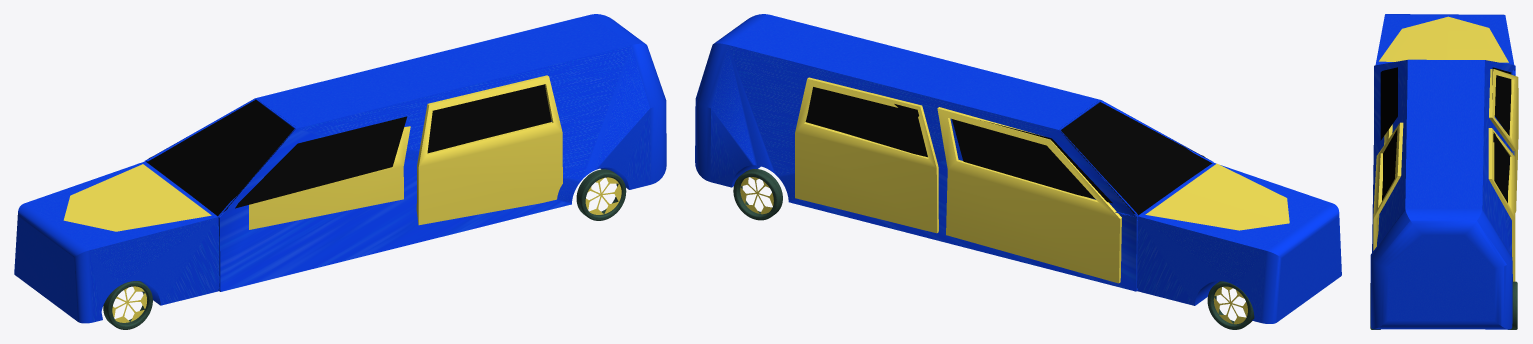
3 views of the same model, side by side, from view 1: azimuth 30°, elevation 25°; view 2: azimuth 150°, elevation 25°; view 3: azimuth 270°, elevation 25° (orthographic). The views are drawn at different scales.
Visible parts, largest first — view 1: carro, porta_3, para_brisa_, janela, capo, porta_2, janela_2, pneu_3, pneu_2, aro_3, aro_2; view 2: carro, porta_1, porta_4, para_brisa_, capo, janela_1, janela_3, pneu_1, pneu_4, aro_4, aro_1; view 3: carro, capo, porta_1, porta_4, porta_3, janela, janela_1, janela_3, janela_2, pneu_1.
Boxes of the visible parts, x1,y1,x2,y2 form: carro: [14, 14, 666, 323]; porta_3: [416, 75, 562, 225]; para_brisa_: [146, 99, 293, 216]; janela: [235, 116, 407, 208]; capo: [63, 164, 211, 231]; porta_2: [249, 126, 410, 229]; janela_2: [427, 84, 551, 153]; pneu_3: [576, 169, 626, 220]; pneu_2: [103, 281, 152, 329]; aro_3: [585, 177, 621, 214]; aro_2: [112, 286, 146, 322]; carro: [695, 14, 1341, 323]; porta_1: [937, 107, 1121, 283]; porta_4: [795, 77, 938, 233]; para_brisa_: [1060, 102, 1212, 215]; capo: [1145, 163, 1289, 230]; janela_1: [952, 119, 1112, 203]; janela_3: [805, 87, 927, 157]; pneu_1: [733, 169, 782, 220]; pneu_4: [1207, 281, 1254, 329]; aro_4: [1213, 286, 1247, 324]; aro_1: [740, 177, 773, 214]; carro: [1370, 14, 1515, 329]; capo: [1379, 16, 1508, 62]; porta_1: [1489, 69, 1518, 212]; porta_4: [1488, 128, 1515, 281]; porta_3: [1373, 122, 1403, 250]; janela: [1380, 67, 1397, 140]; janela_1: [1492, 67, 1511, 135]; janela_3: [1493, 132, 1509, 202]; janela_2: [1381, 129, 1397, 211]; pneu_1: [1508, 281, 1517, 329].
Size of the model in its own units: 1.83 by 0.4538 by 0.4287.
4 materials, 2 textured.
